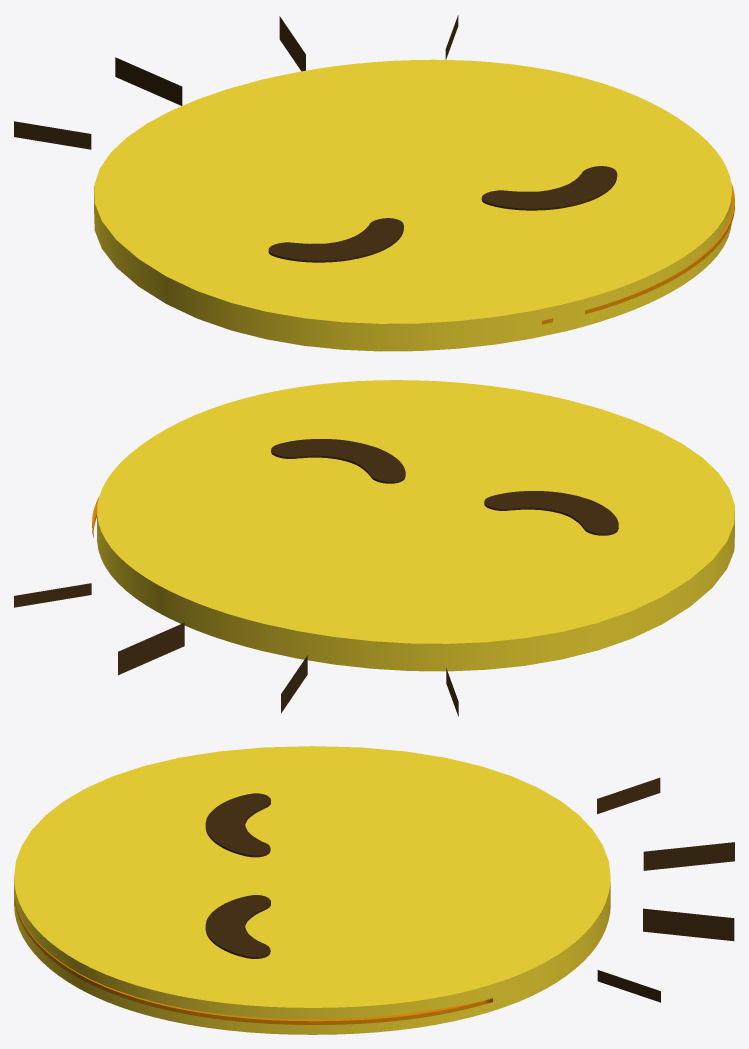
Rendered from emoji_u1f642_200d_2195.glb.
The picture shows the model from 3 angles, top to bottom: view 1: azimuth 30°, elevation 25°; view 2: azimuth 150°, elevation 25°; view 3: azimuth 270°, elevation 25°; orthographic projection. The views are drawn at different scales.
Visible parts, largest first — view 1: emoji_u1f642_200d_2195; view 2: emoji_u1f642_200d_2195; view 3: emoji_u1f642_200d_2195.
Part boxes in pixels (<box>): emoji_u1f642_200d_2195: <box>14,15,734,351</box>; emoji_u1f642_200d_2195: <box>14,380,734,716</box>; emoji_u1f642_200d_2195: <box>14,746,734,1034</box>.
Size of the model in its own units: 0.0294 by 0.0016 by 0.034.
